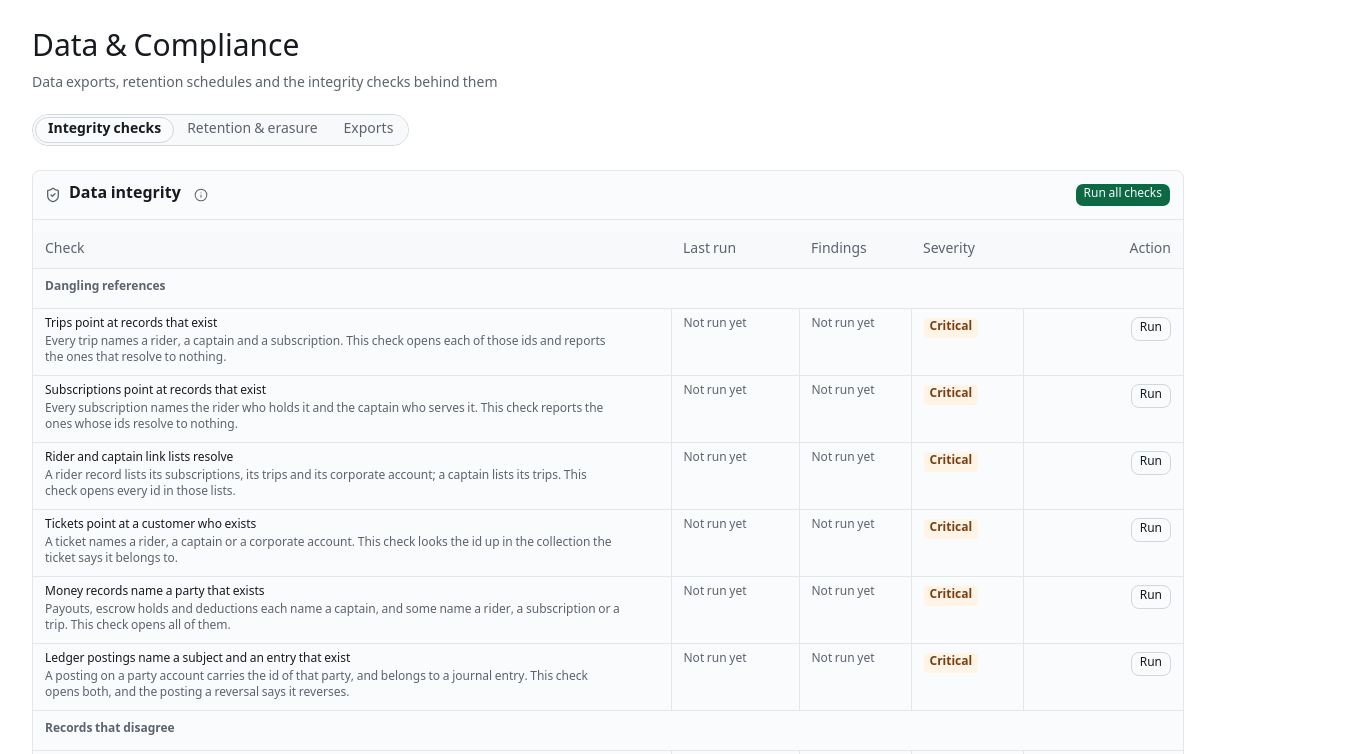
Test: the integrity pane — the four states › reaches the error state when the scan is rigged to fail, and offers the retry
The width and height of the screenshot is (1366, 754).
Click the button "Run all checks". click: (1123, 195)
box: [1075,183,1171,207]
(page scrolled)
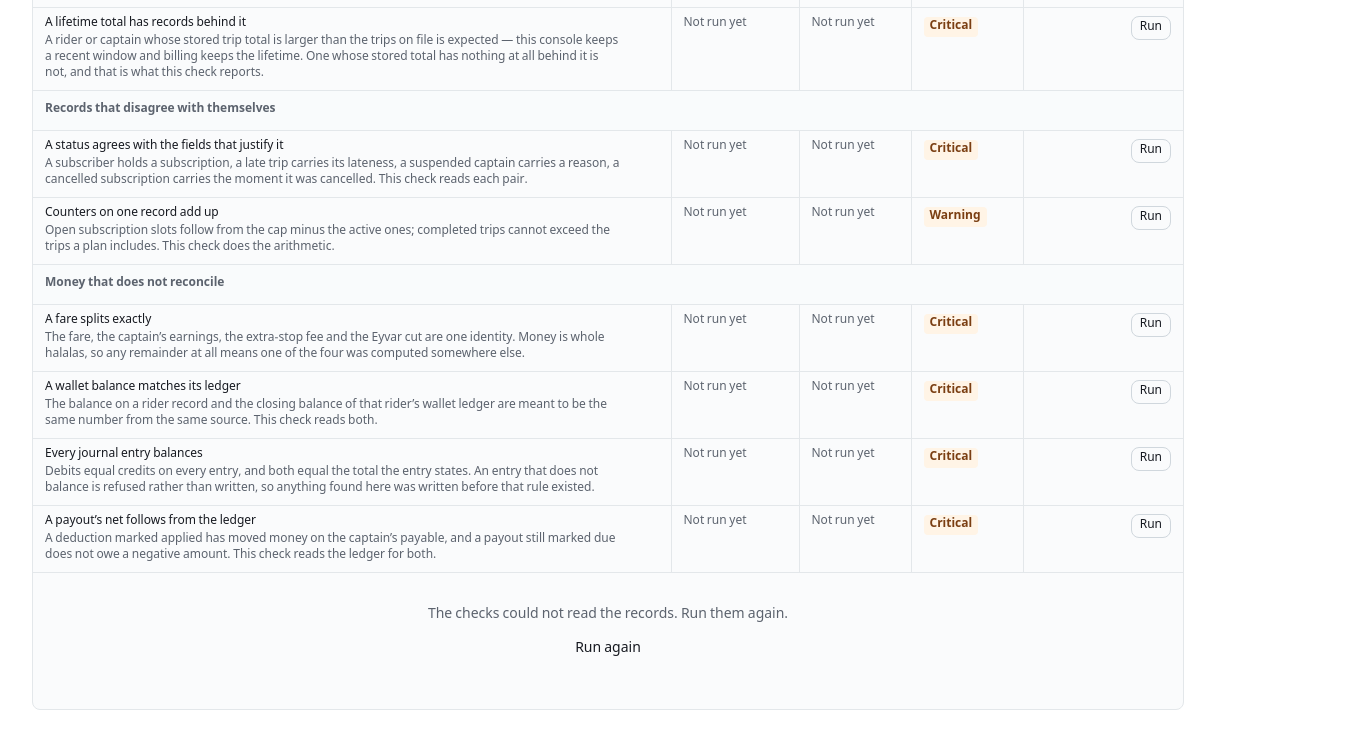
Check: the text "The checks could not read the records. Run them again." is shown, box [428,604,788,624]
Check: the button "Run again" is shown, box [564,632,652,664]
